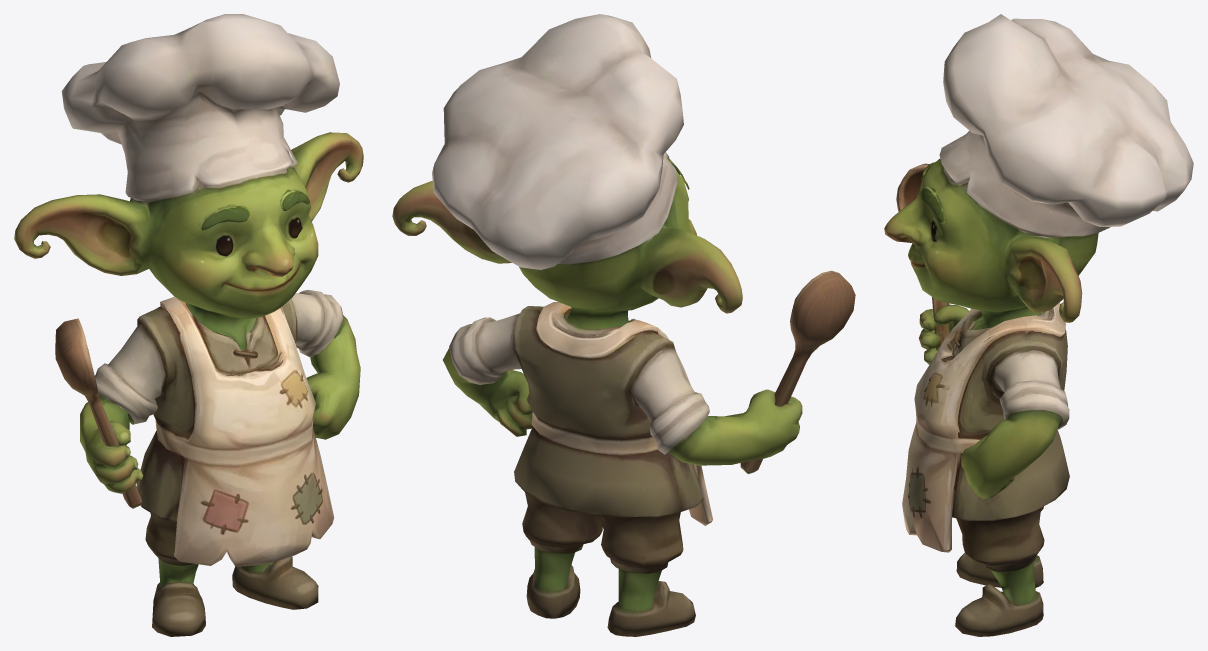
The model's file is mon-goblin.glb.
3 renders of one model, left to right at view 1: azimuth 30°, elevation 25°; view 2: azimuth 150°, elevation 25°; view 3: azimuth 270°, elevation 25°, orthographic. The views are drawn at different scales.
Size of the model in its own units: 0.6735 by 1 by 0.488.
1 material, 1 textured.
